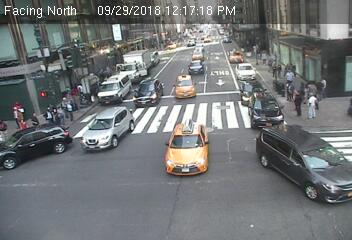car: (255, 123, 352, 205), (165, 119, 210, 177), (82, 107, 136, 148), (250, 92, 285, 130), (118, 49, 150, 80), (97, 76, 130, 105), (132, 77, 163, 107), (239, 79, 264, 105), (173, 74, 194, 98), (235, 63, 258, 82), (227, 46, 247, 65), (186, 60, 204, 74), (144, 49, 159, 65), (190, 46, 204, 60), (166, 40, 178, 50), (222, 33, 232, 45), (185, 37, 197, 46), (201, 34, 212, 43)
